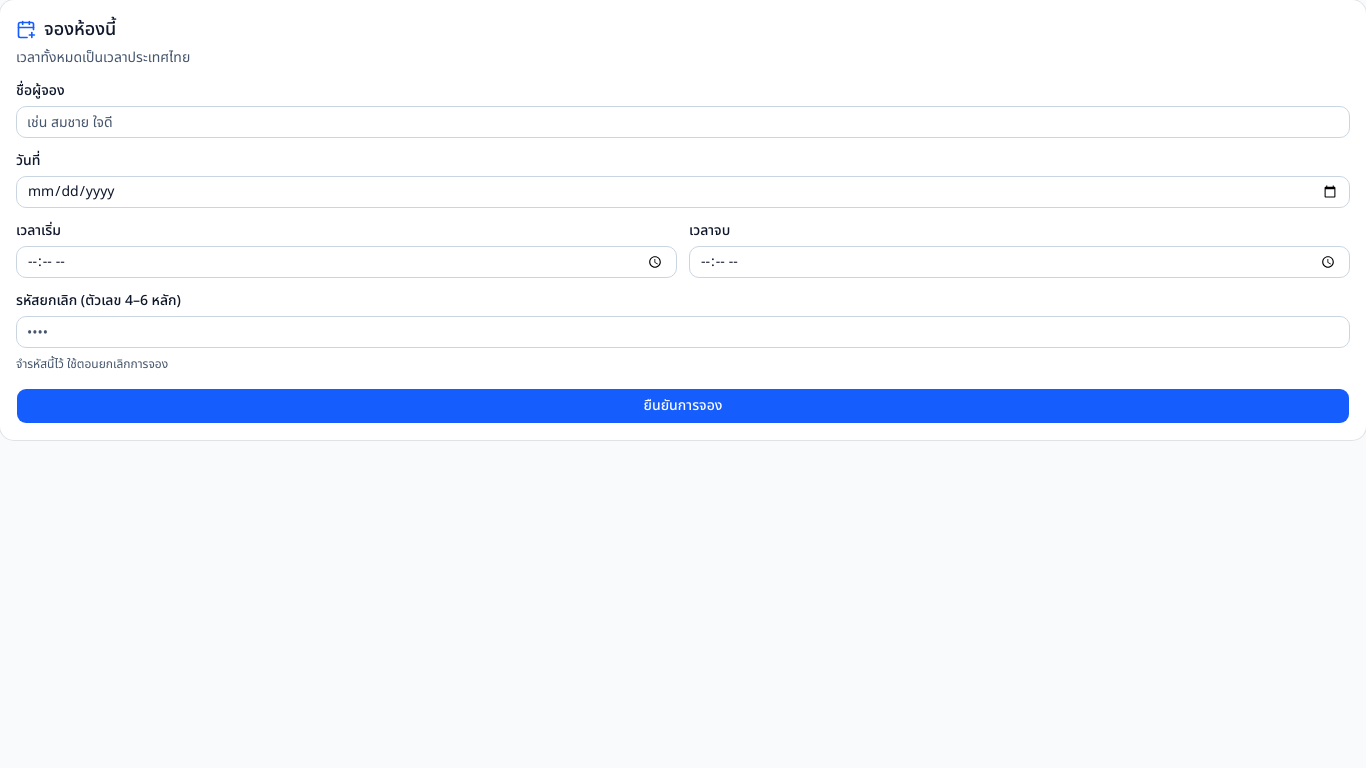
Test case: BookingForm › sends Bangkok times as ISO, then clears the form and refreshes the list
This screenshot has width=1366, height=768.
Type "สมชาย" into the field labelled "ชื่อผู้จอง". click: (683, 122)
box: [16, 106, 1350, 138]
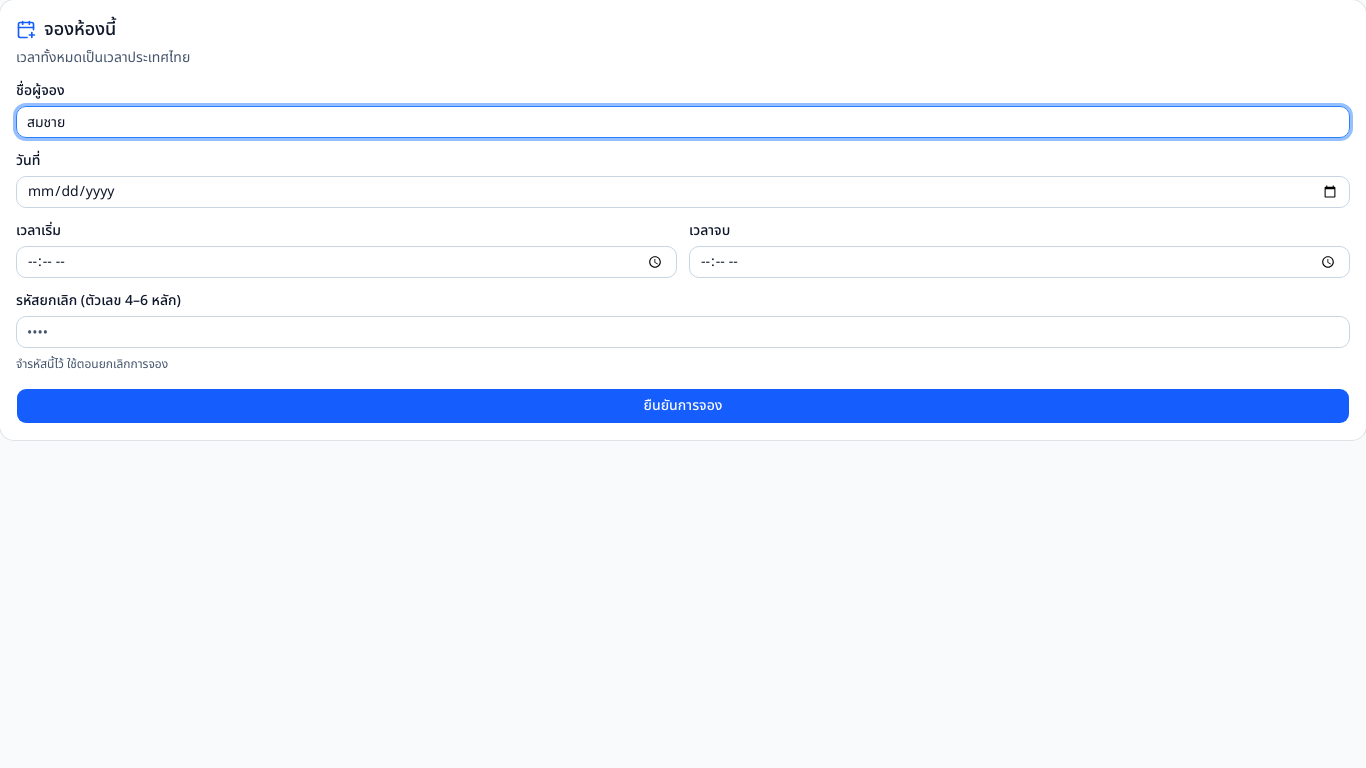
Type "2030-01-15" into the date field labelled "วันที่". click: (683, 192)
box: [16, 176, 1350, 208]
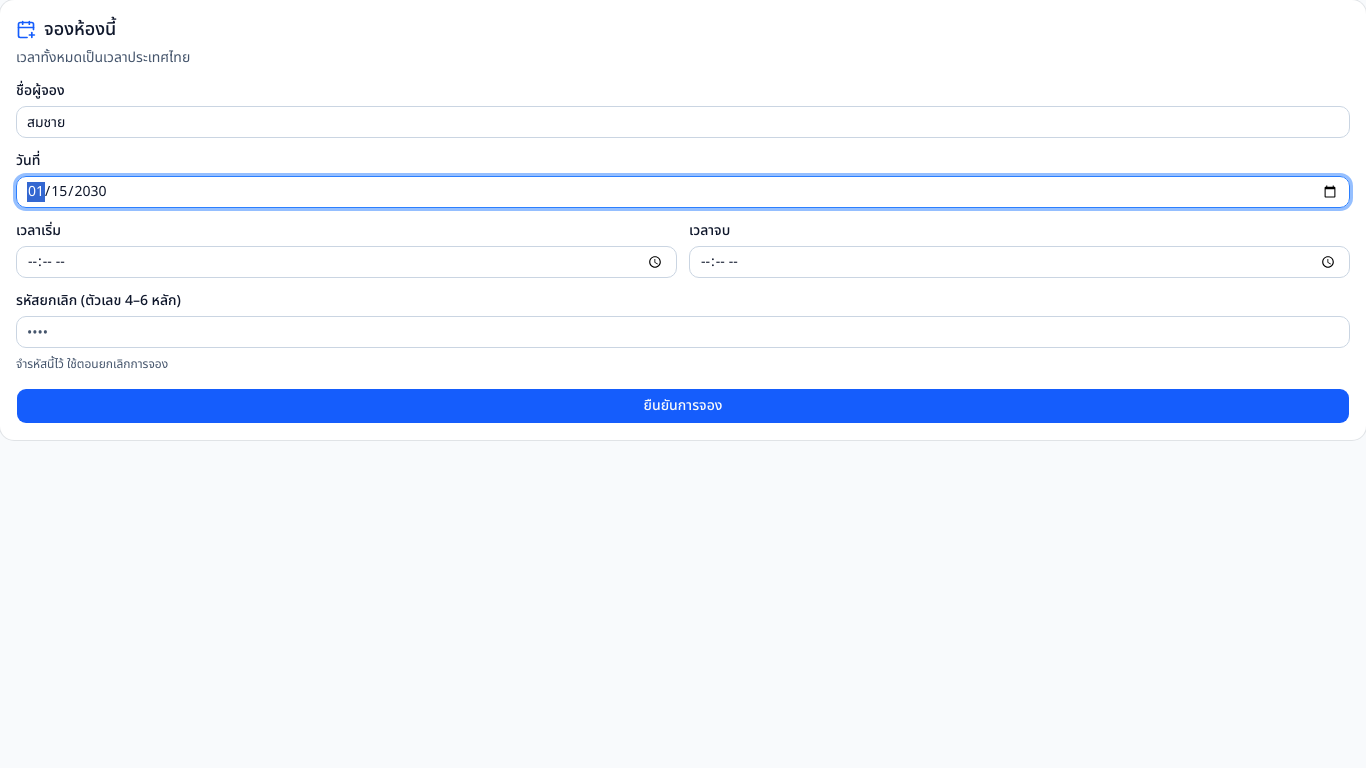
Type "10:00" into the time field labelled "เวลาเริ่ม". click: (346, 262)
box: [16, 246, 677, 278]
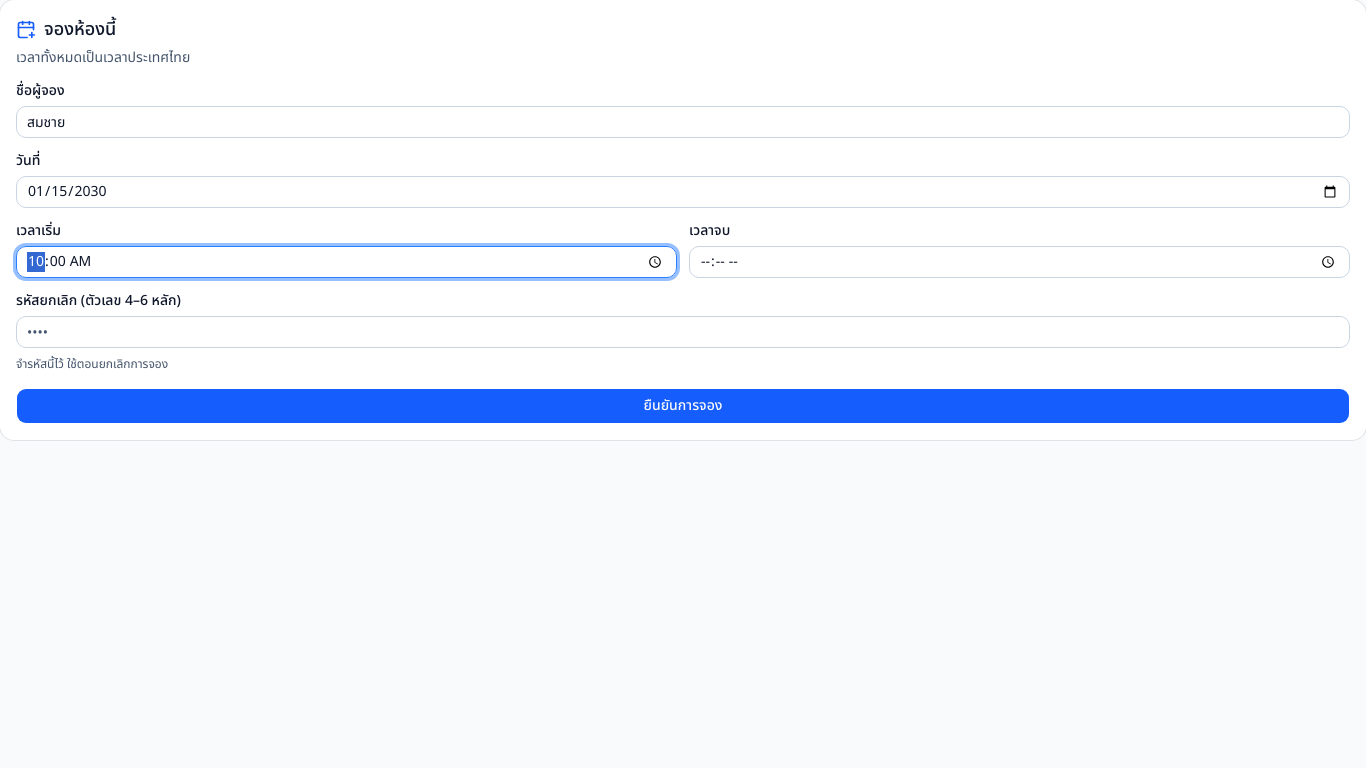
Type "11:30" into the time field labelled "เวลาจบ". click: (1020, 262)
box: [689, 246, 1350, 278]
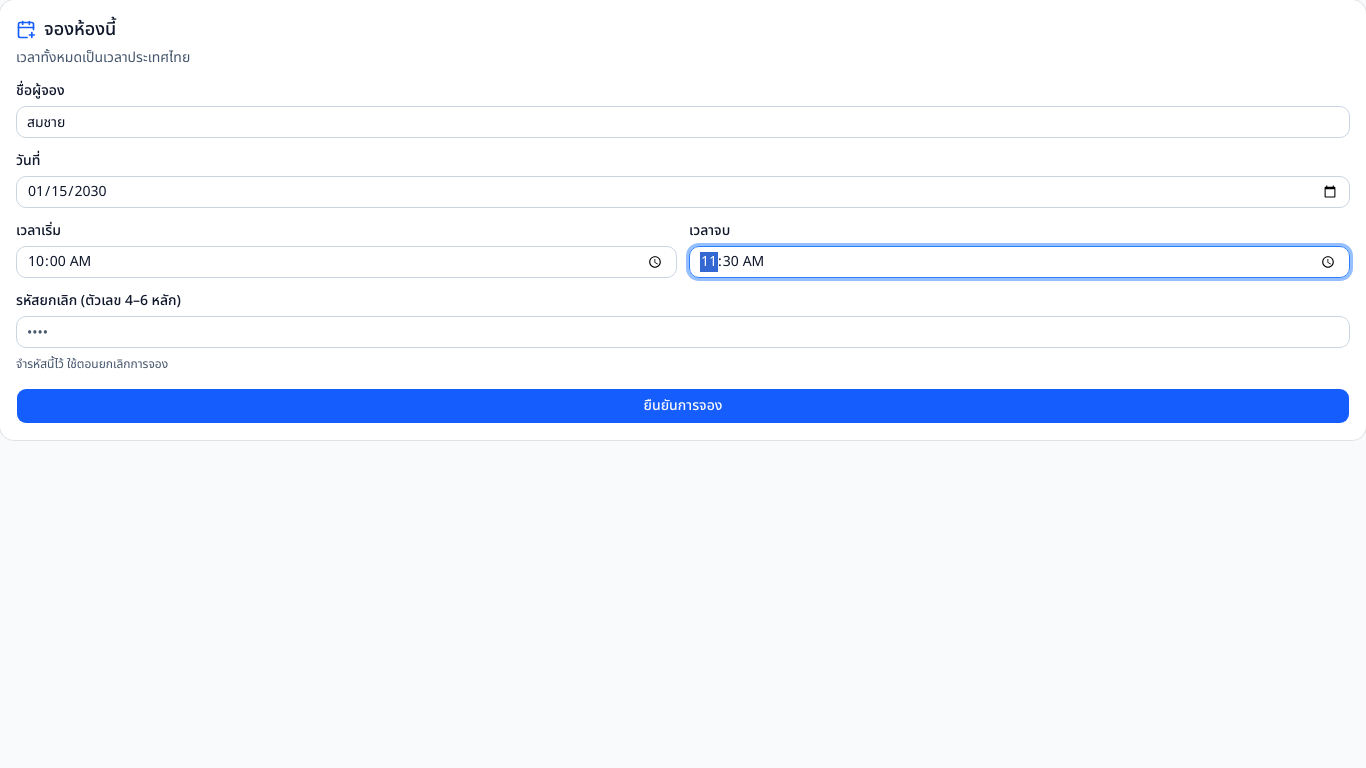
Type "1234" into the password field labelled "รหัสยกเลิก (ตัวเลข 4–6 หลัก)". click: (683, 332)
box: [16, 316, 1350, 348]
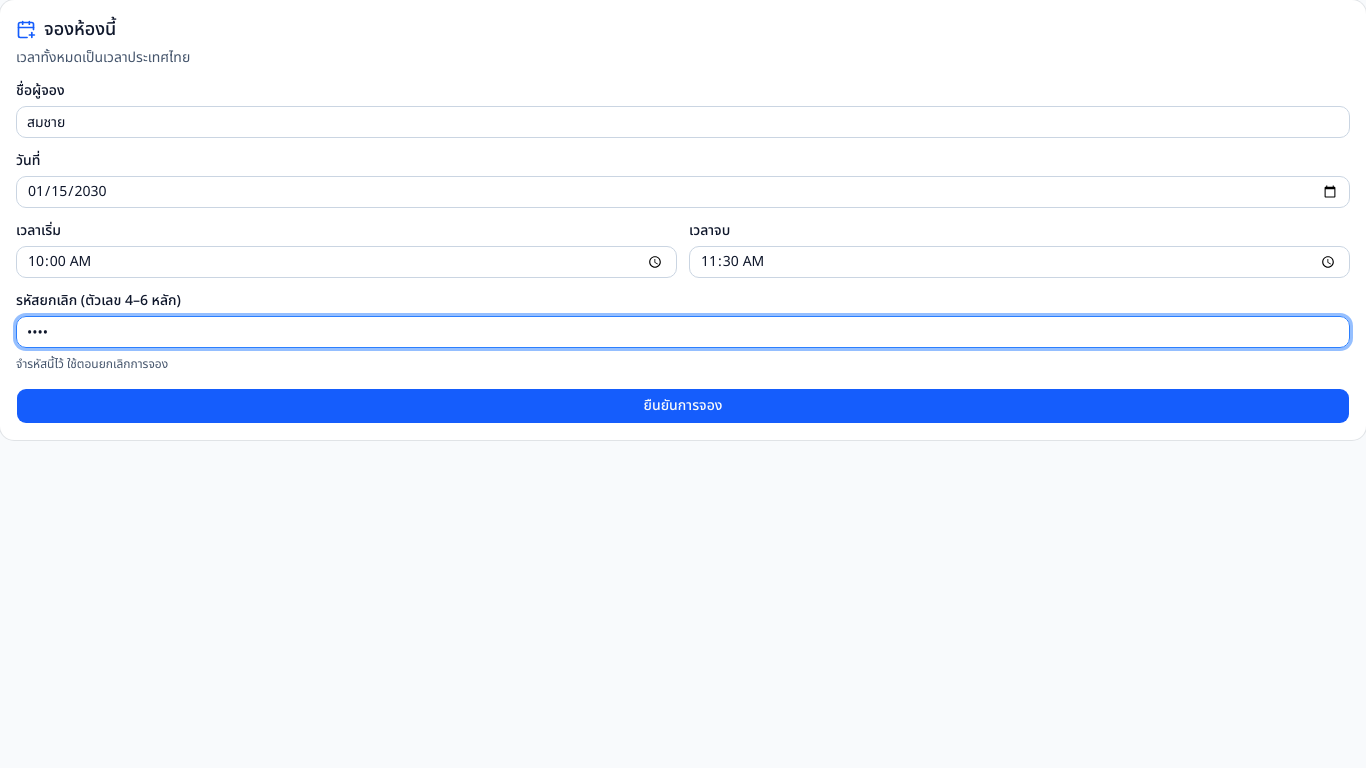
Click the button "ยืนยันการจอง". click: (683, 406)
box: [16, 388, 1350, 424]
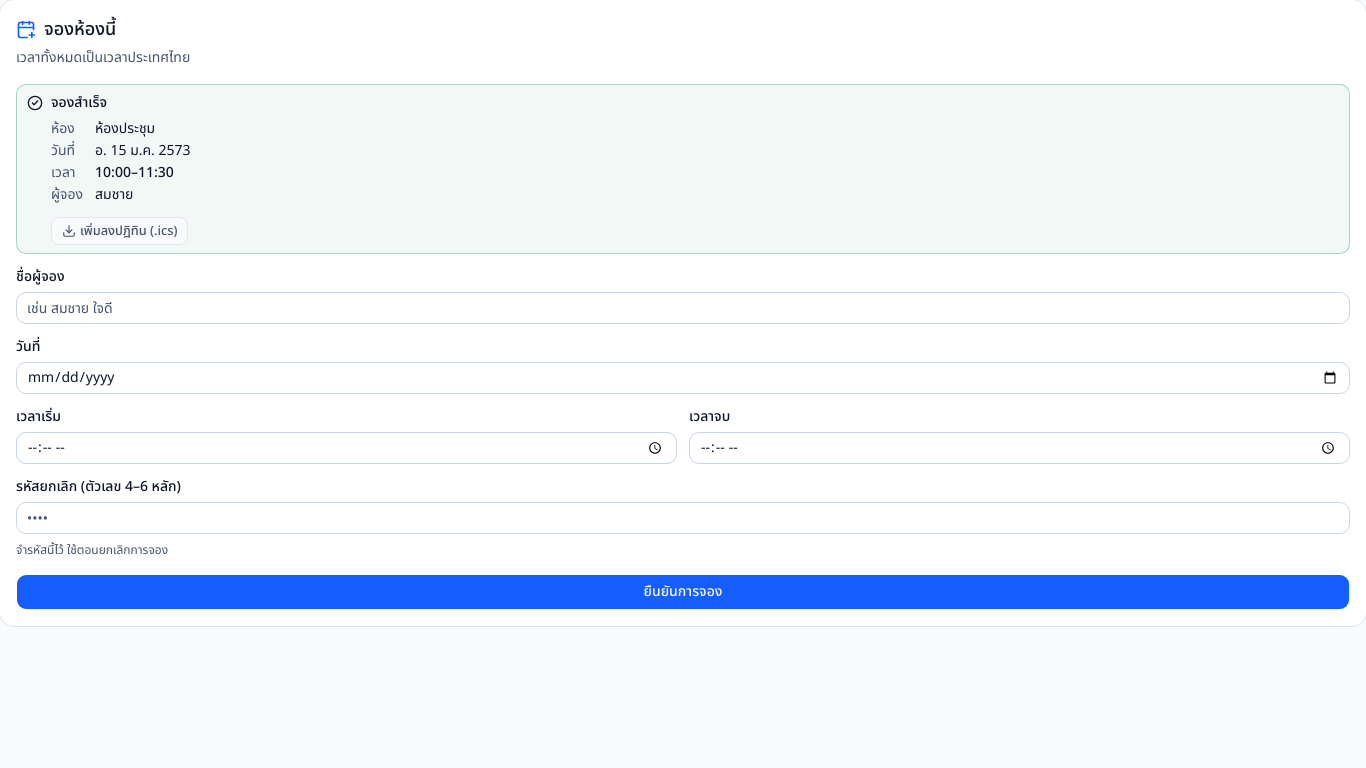
Check: the message shows "จองสำเร็จ", box [51, 92, 107, 113]
Check: the message shows "10:00–11:30", box [95, 162, 174, 183]
Check: the button "เพิ่มลงปฏิทิน (.ics)" is shown, box [51, 217, 188, 245]
